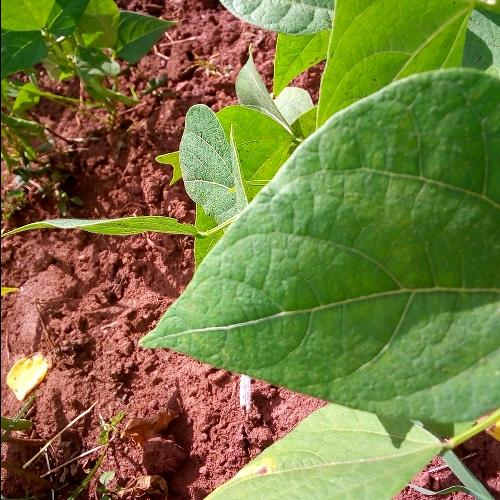mozaik: (187, 58, 500, 417)
